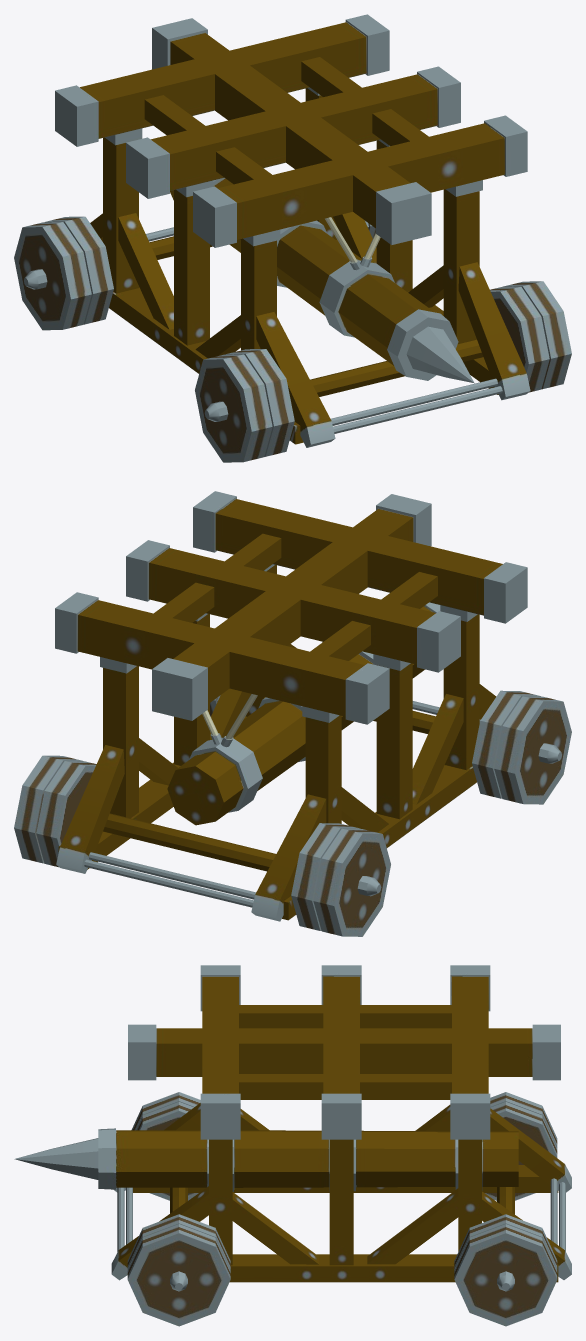
Rendered from ram.glb.
3 views of the same model, one above another, from view 1: azimuth 30°, elevation 25°; view 2: azimuth 150°, elevation 25°; view 3: azimuth 270°, elevation 25° (orthographic). The views are drawn at different scales.
Visible parts, largest first — view 1: Battering_Ram; view 2: Battering_Ram; view 3: Battering_Ram.
Boxes of the visible parts, <box> form: Battering_Ram: <box>14,14,571,462</box>; Battering_Ram: <box>14,491,571,936</box>; Battering_Ram: <box>14,965,571,1326</box>.
Bounding box in the file's own units: 1.32 × 0.8792 × 2.
1 material, 1 textured.
